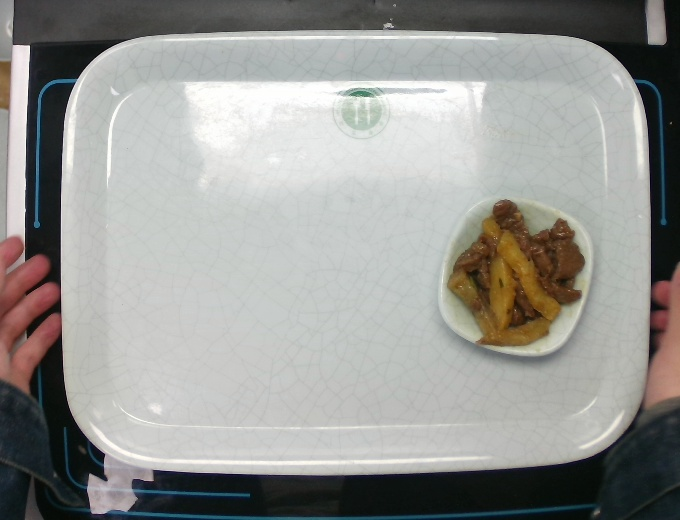JYsf-Si_Fang_Die: (435, 192, 596, 359)
